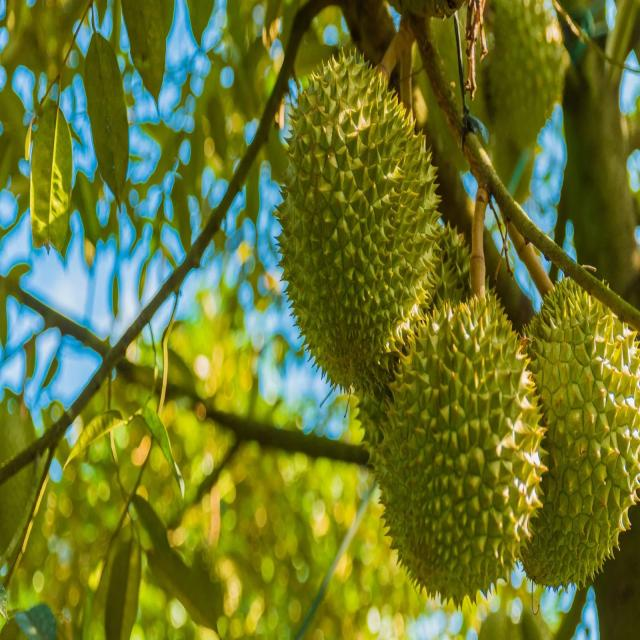immature: (271, 53, 442, 400), (369, 284, 540, 607), (515, 277, 640, 593)
